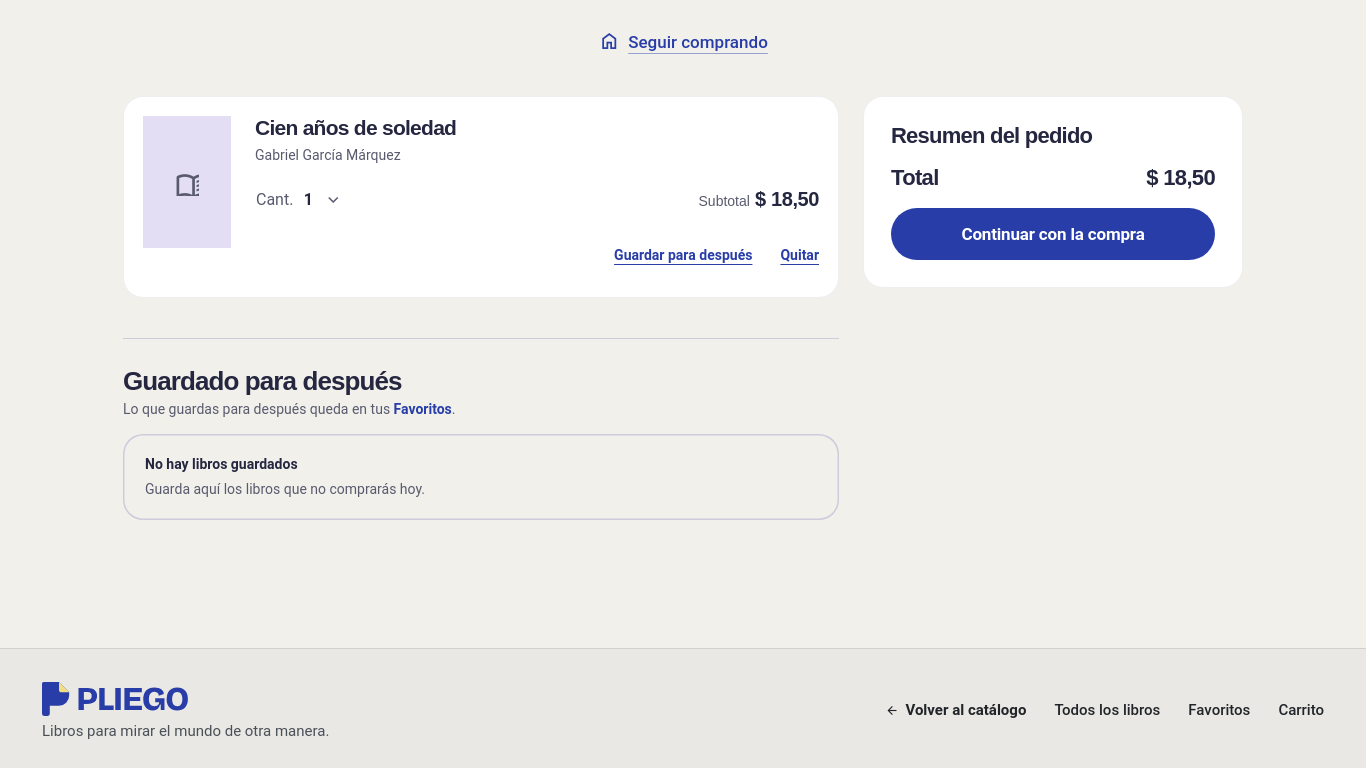
CartPage › saves an item for later in Favoritos before taking it out of the cart
This screenshot has width=1366, height=768.
Click the button with aria-label "Guardar Cien años de soledad para después" at (683, 256), box [614, 234, 752, 278]
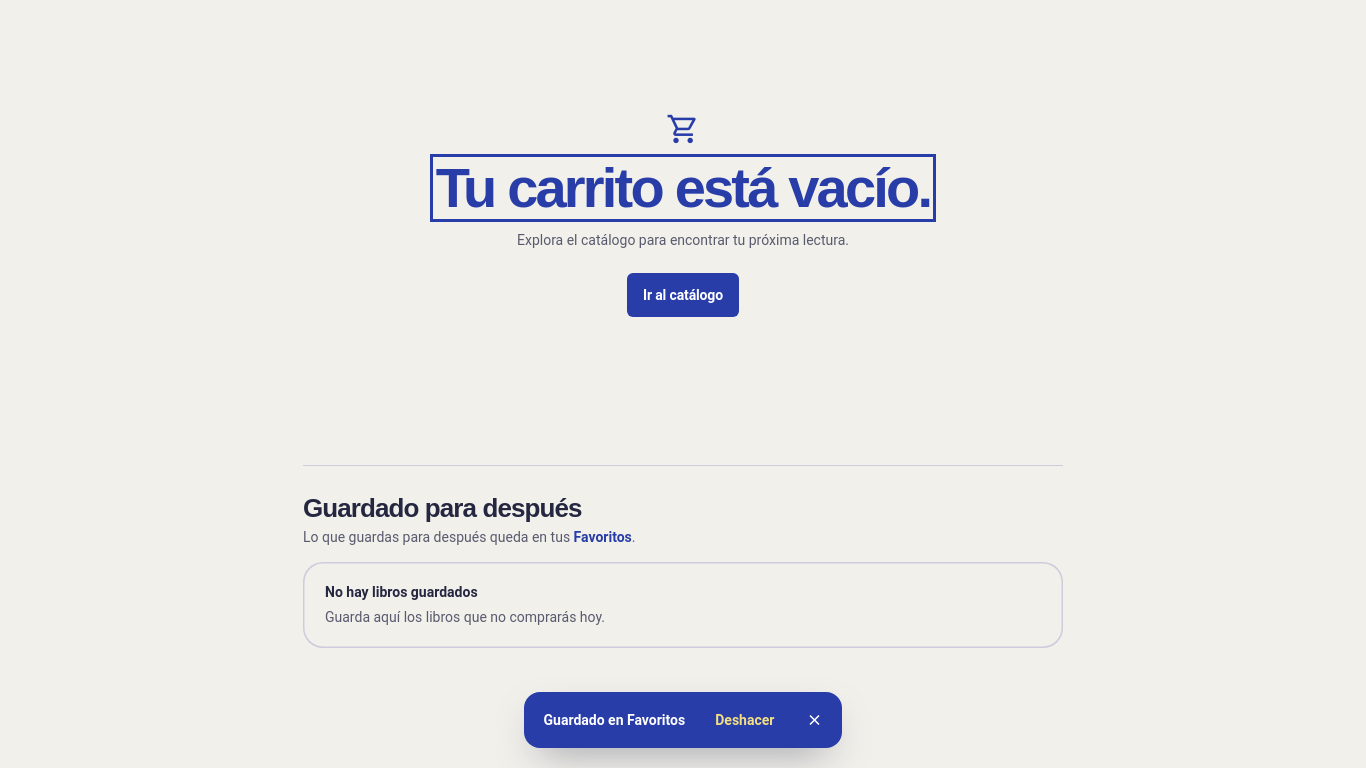
Now the text "Guardado en Favoritos" is shown, box [544, 710, 826, 728]
